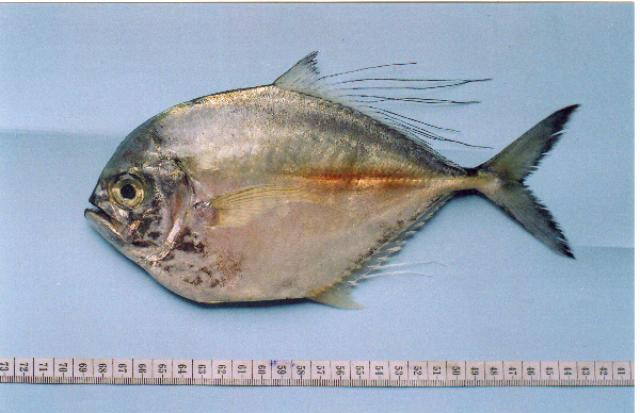Mulut: (67, 184, 129, 250)
Sirip Anal: (304, 189, 488, 323)
Sirip Dada: (190, 180, 362, 245)
Sirip Ekor: (469, 94, 595, 270)
Sirip Punggung: (259, 44, 483, 166)
